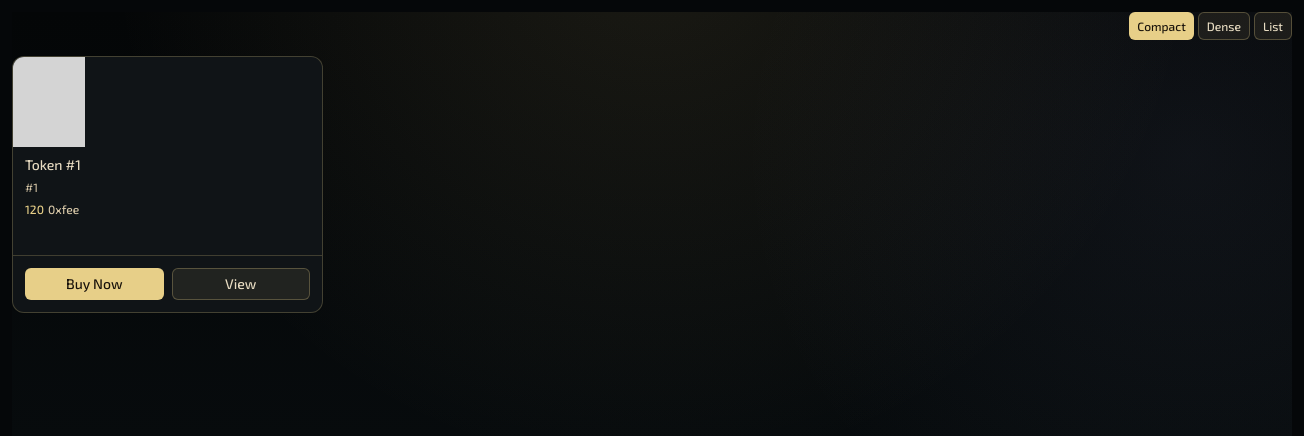
Test: collection token grid › token_grid_add_to_cart_resolves_cheapest_listing
What coordinates should you click on to do the following:
click the button "Buy Now"
I would click on:
 (94, 284)
Its box is [25,268,164,300].
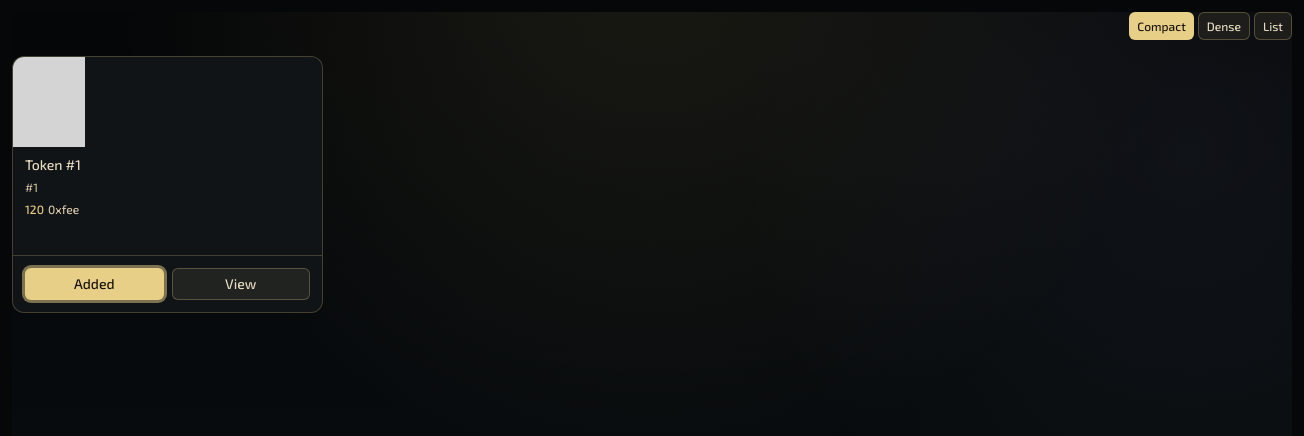
Check: the button "Added" is shown, box [25,268,164,300]
